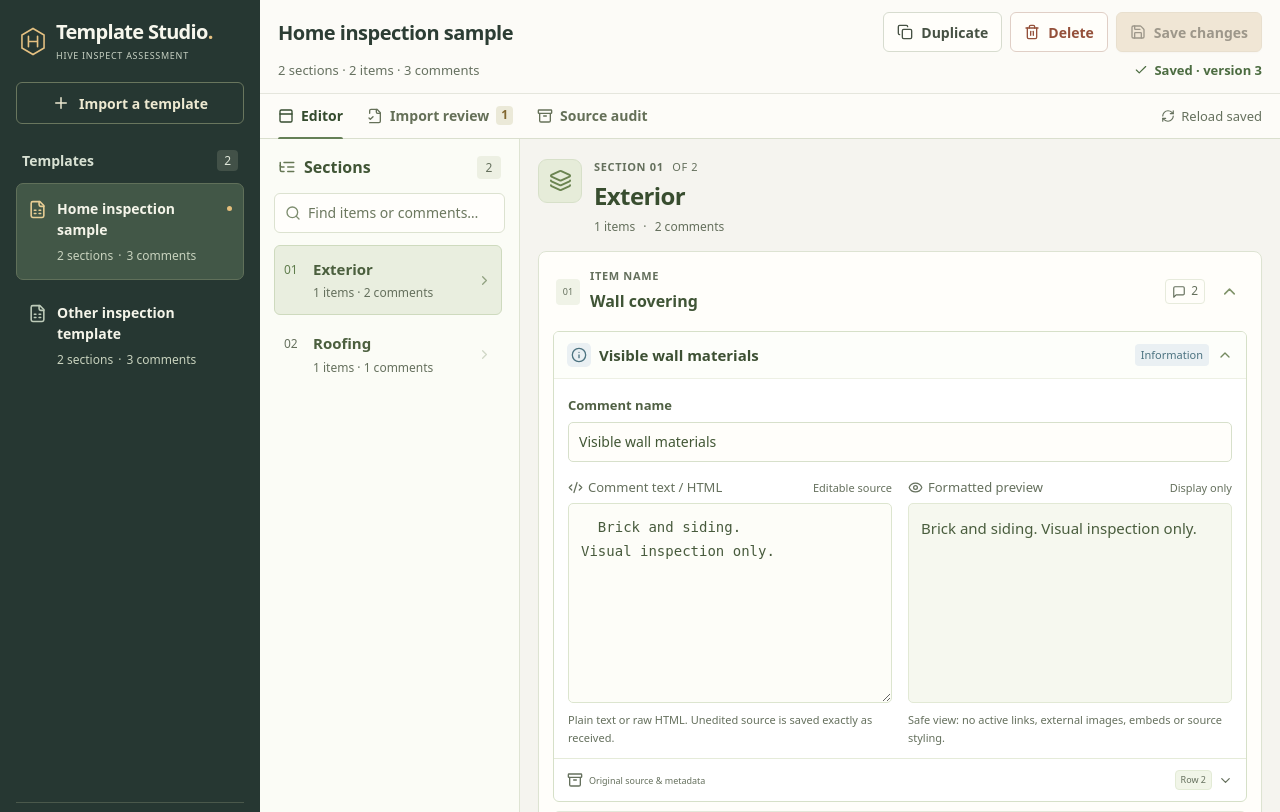
end-to-end client state with unit-test API mocks › deletes the selected template and opens another saved template
Expected: the field named "Template name" holds "Home inspection sample", [273,14,862,50]
Step 1. Click the button "Delete" → [1059, 32], box [1010,12,1108,52]
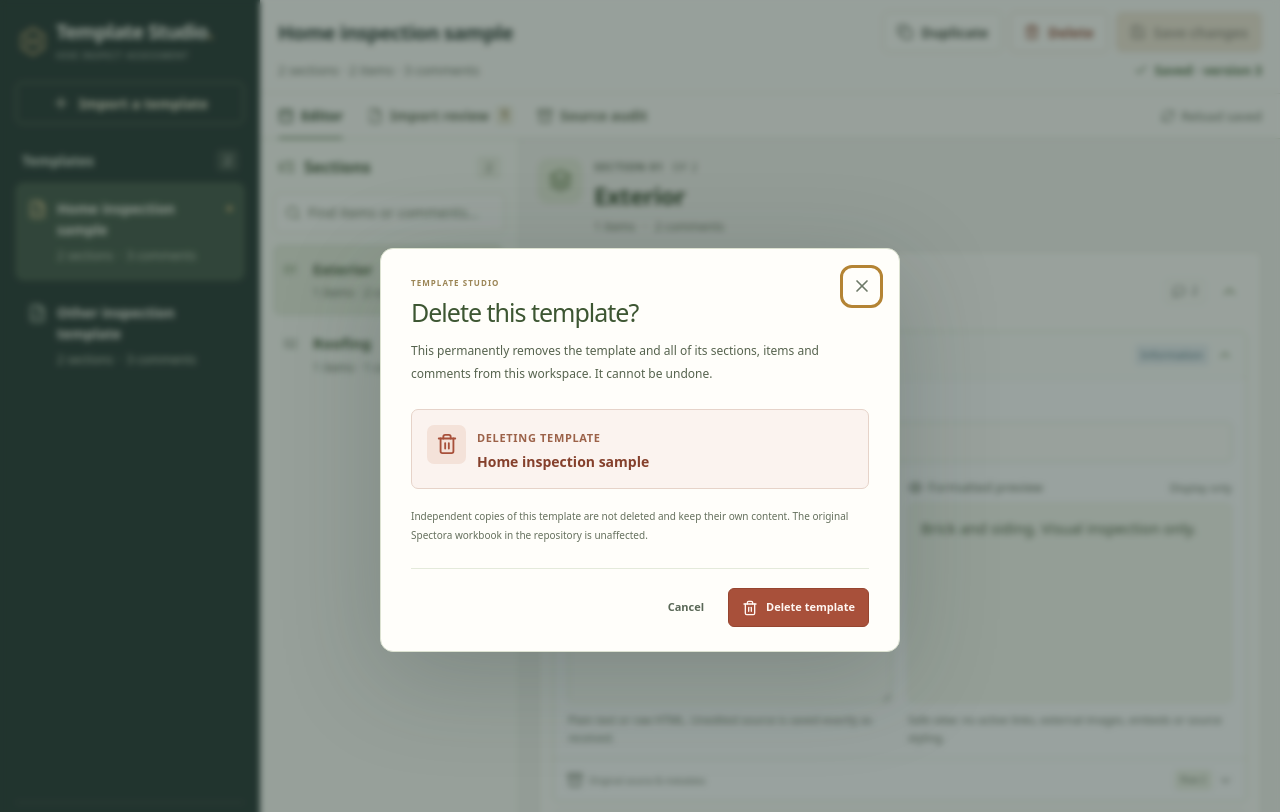
Now the dialog "Delete this template?" shows "Home inspection sample", box [477,452,649,471]
Step 2. Click the button "Delete template" → [798, 608], box [728,588,869,627]
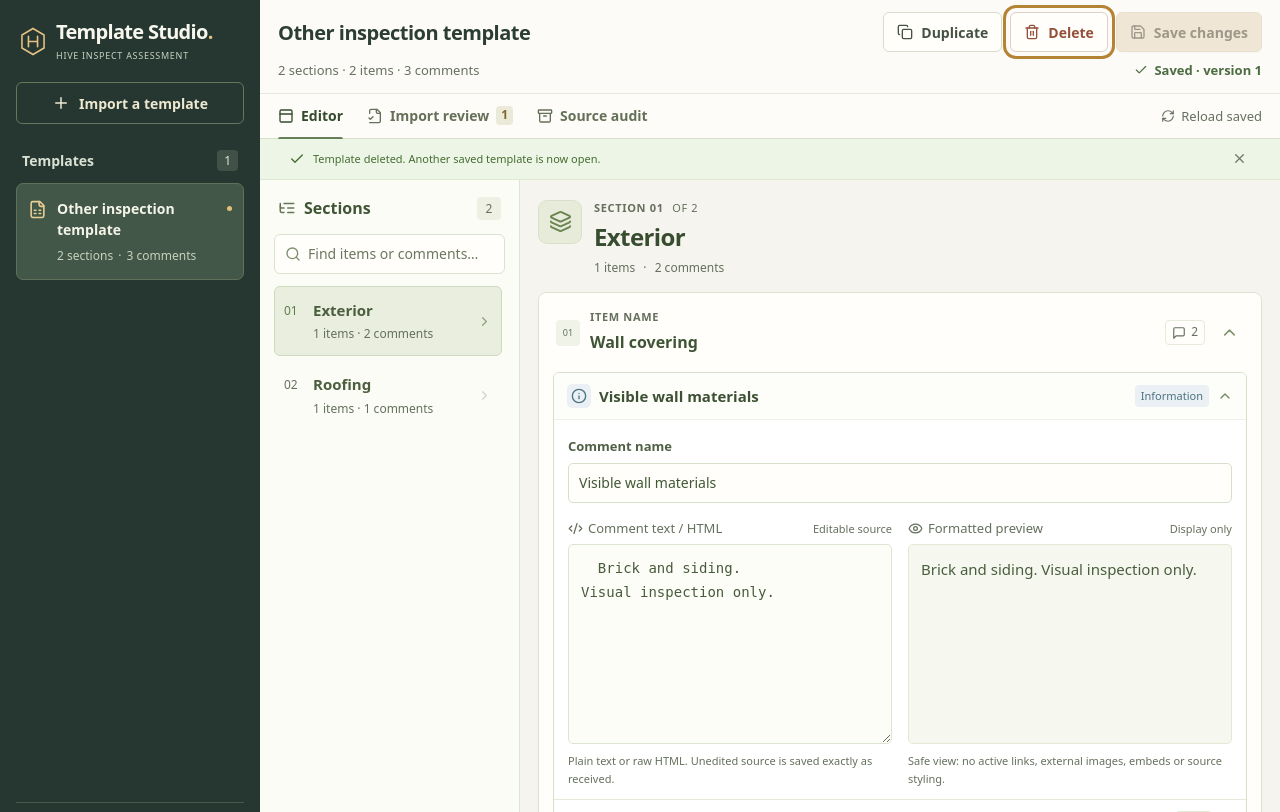
Now the field named "Template name" holds "Other inspection template", box [273,14,862,50]
Now the button "Home inspection sample" is gone
